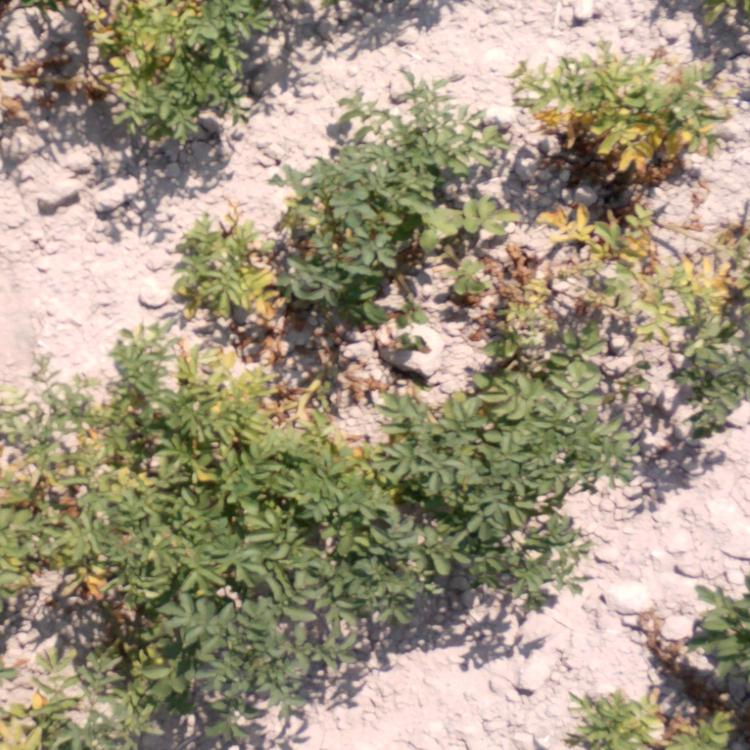healthy: (412, 397, 569, 554), (141, 572, 312, 700), (368, 99, 489, 230), (315, 499, 440, 615), (296, 158, 368, 294), (696, 566, 750, 666)
stressed: (464, 239, 745, 397), (139, 355, 293, 549), (1, 362, 120, 612), (522, 49, 697, 198), (88, 1, 232, 156), (176, 206, 285, 348), (577, 683, 731, 750), (1, 686, 131, 750), (290, 414, 396, 483), (8, 53, 65, 100)
